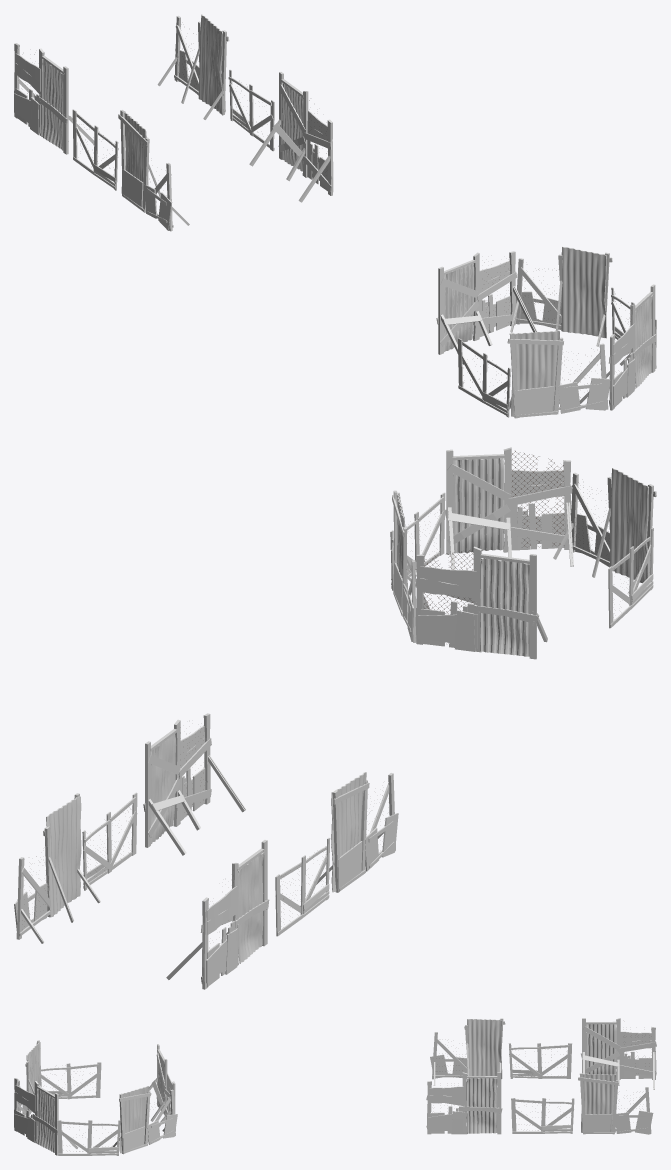
File: Fence_Structure.fbx
3 renders of one model, top to bottom at view 1: azimuth 30°, elevation 25°; view 2: azimuth 150°, elevation 25°; view 3: azimuth 270°, elevation 25°, orthographic. The views are drawn at different scales.
Visible parts, largest first — view 1: Cube.003, Cube.013, Cube.022, Cube.006, Cube.020, Cube.021, Cube.011; view 2: Cube.003, Cube.013, Cube.022, Cube.006, Cube.020, Cube.021, Cube.011, Cube.004; view 3: Cube.003, Cube.013, Cube.022, Cube.006, Cube.020, Cube.011, Cube.021.
Part boxes in pixels (bbox=[...]): Cube.003: bbox=[436, 246, 656, 418]; Cube.013: bbox=[249, 72, 333, 202]; Cube.022: bbox=[14, 43, 94, 154]; Cube.006: bbox=[157, 14, 229, 119]; Cube.020: bbox=[118, 110, 189, 231]; Cube.021: bbox=[72, 109, 118, 190]; Cube.011: bbox=[228, 69, 274, 151]; Cube.003: bbox=[390, 447, 656, 659]; Cube.013: bbox=[143, 713, 245, 855]; Cube.022: bbox=[166, 840, 269, 989]; Cube.006: bbox=[14, 793, 100, 943]; Cube.020: bbox=[316, 772, 398, 892]; Cube.021: bbox=[275, 838, 330, 936]; Cube.011: bbox=[82, 792, 137, 890]; Cube.004: bbox=[408, 451, 589, 643]; Cube.003: bbox=[14, 1040, 177, 1155]; Cube.013: bbox=[426, 1072, 502, 1134]; Cube.022: bbox=[580, 1018, 656, 1089]; Cube.006: bbox=[578, 1073, 653, 1134]; Cube.020: bbox=[430, 1018, 505, 1085]; Cube.011: bbox=[511, 1098, 574, 1133]; Cube.021: bbox=[508, 1043, 572, 1078].
Size of the model in its own units: 541 by 196 by 1866.
